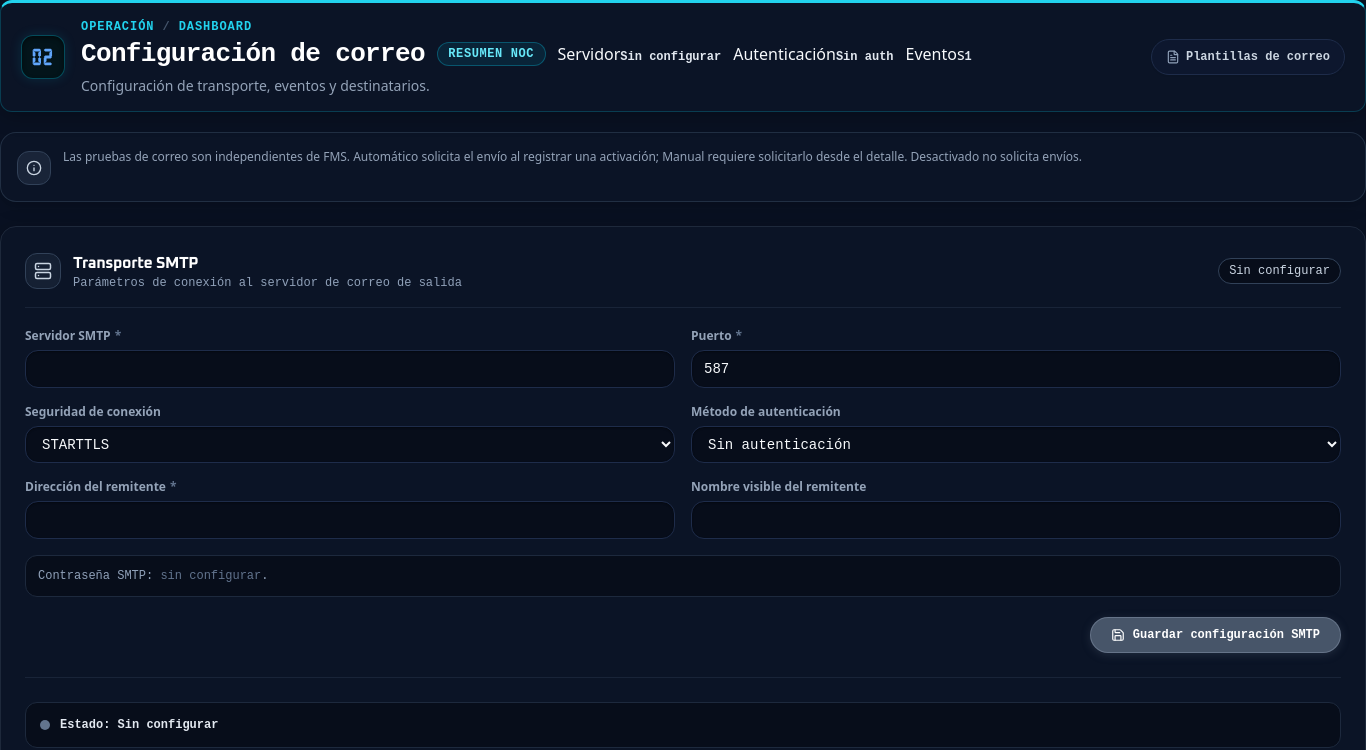
it: Notificaciones por correo: solo configuración › guarda perfil OAUTH2_DELEGATED sin pedir secretos OAuth2
The image size is (1366, 750).
expect the form named "Configuración SMTP" is shown: met, box [25, 328, 1341, 653]
Step 1. Type "smtp.example.com" into the field labelled "Servidor SMTP*" → (350, 369), box [25, 350, 675, 388]
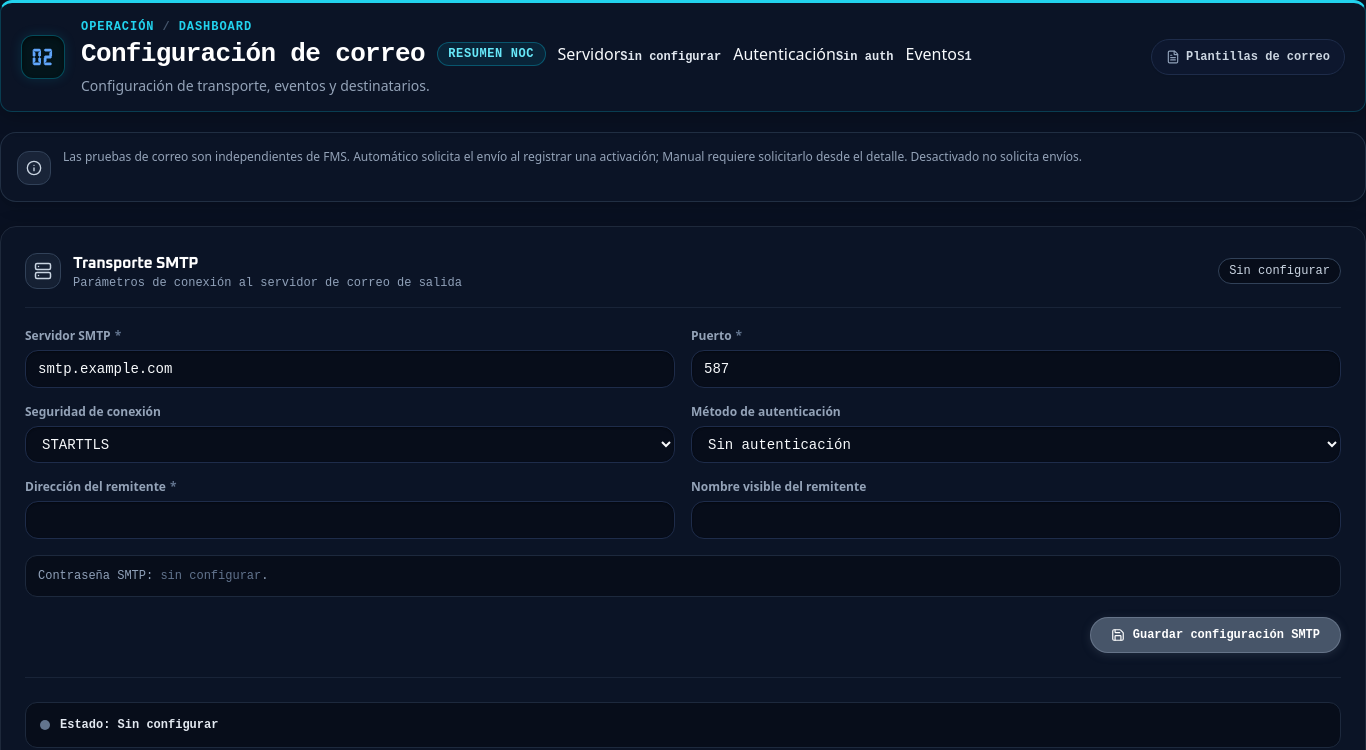
Step 2. Type "noc@example.com" into the field labelled "Dirección del remitente*" → (350, 520), box [25, 501, 675, 539]
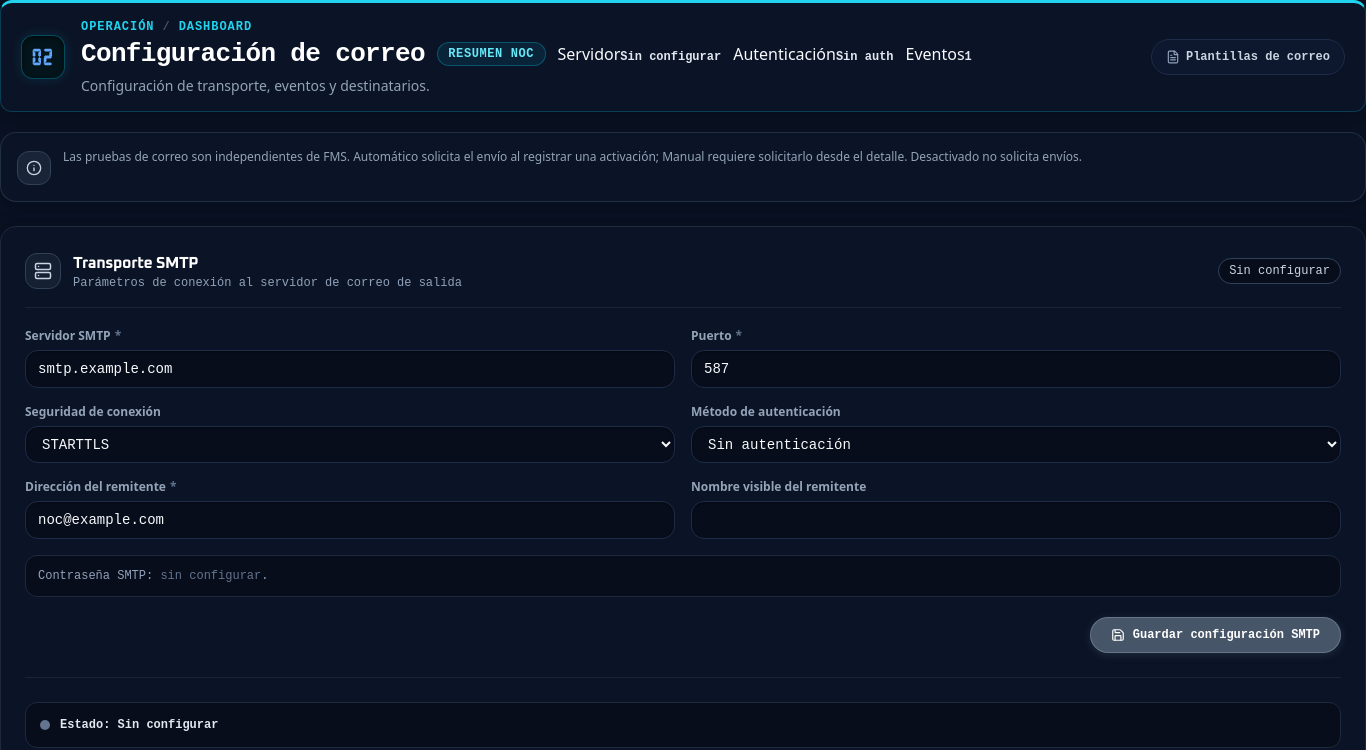
Step 3. Select "OAuth2 delegado" in the dropdown labelled "Método de autenticación" → (1016, 445), box [691, 426, 1341, 463]
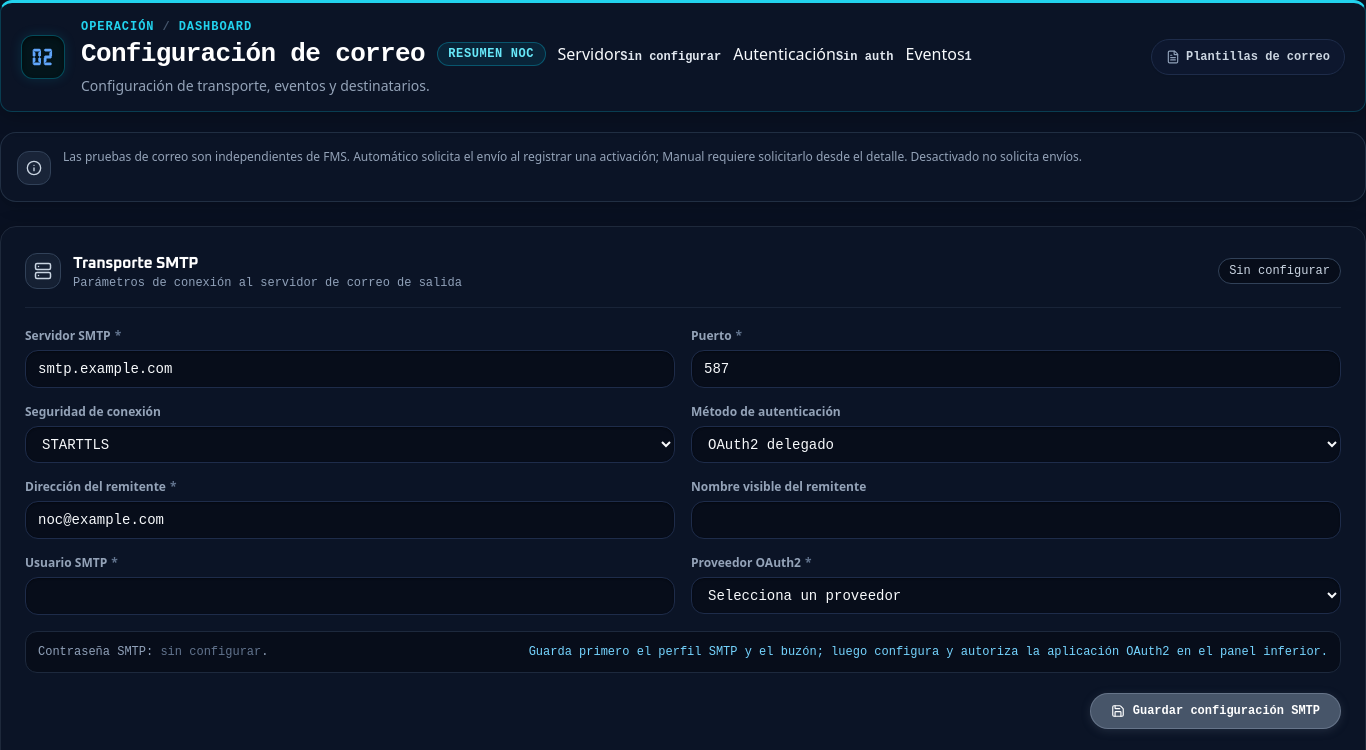
expect the text "Guarda primero el perfil SMTP" is shown: met, box [529, 645, 1328, 659]
Step 4. Select "Microsoft 365" in the dropdown labelled "Proveedor OAuth2*" → (1016, 596), box [691, 577, 1341, 614]
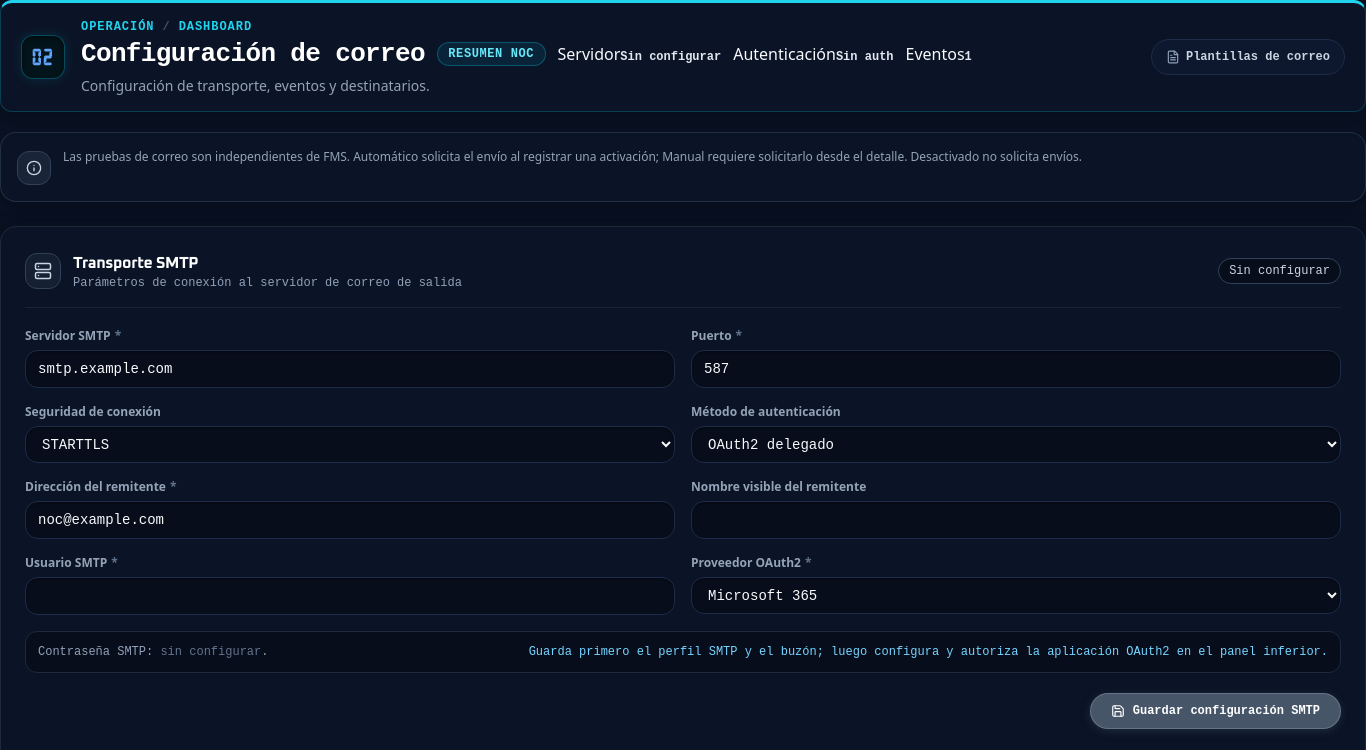
Step 5. Click the button "Guardar configuración SMTP" → (1215, 711), box [1090, 693, 1341, 729]
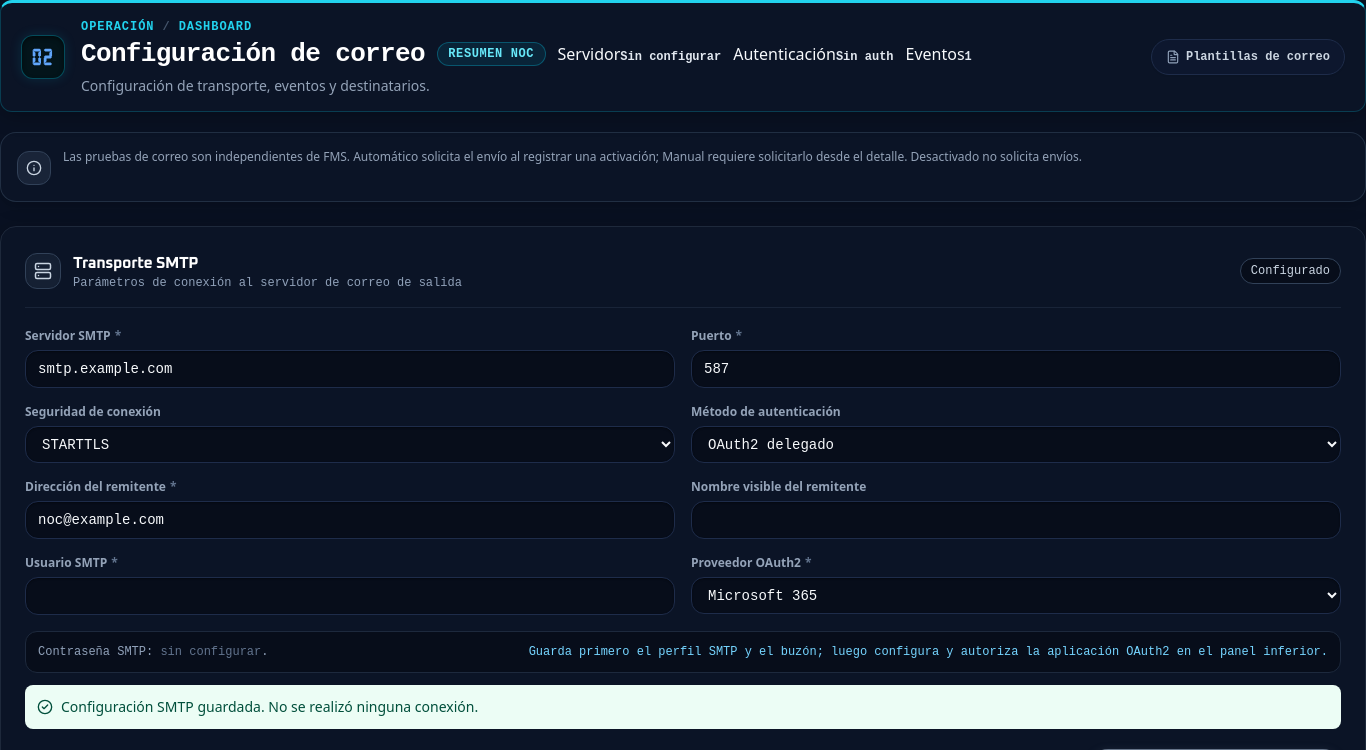
expect the text "Configuración SMTP guardada. No se realizó ninguna conexión." is shown: met, box [61, 697, 478, 717]
